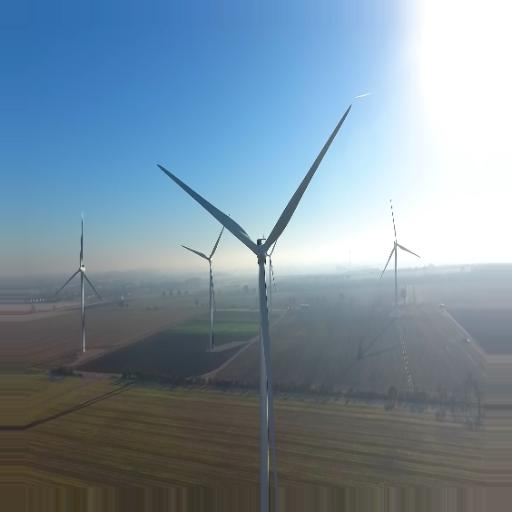wind turbine: (156, 102, 350, 495), (179, 213, 231, 349), (56, 210, 106, 350), (376, 197, 424, 307)
